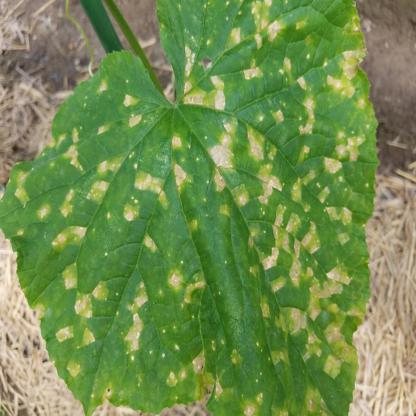DownyMildew: (23, 86, 160, 290), (252, 136, 359, 378), (37, 257, 189, 401), (172, 0, 298, 122), (190, 127, 300, 242), (269, 24, 359, 139)
